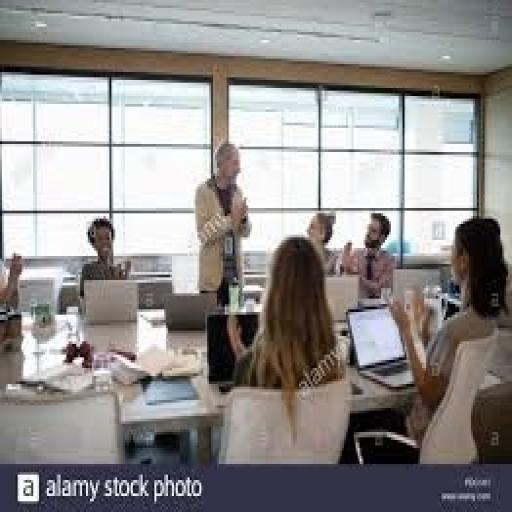clapping: (217, 232, 354, 464), (385, 214, 510, 446), (192, 139, 254, 309), (340, 208, 399, 301), (74, 214, 131, 310), (301, 208, 342, 277)
